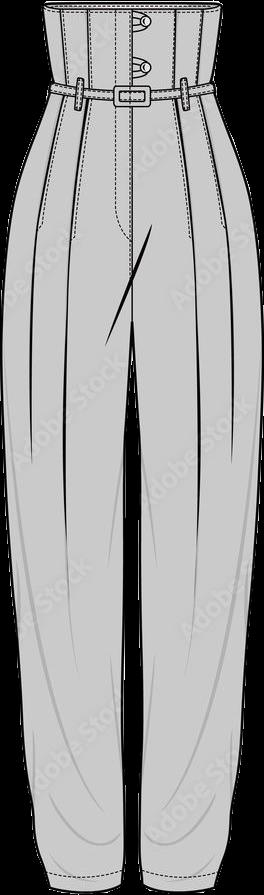Hemline: (140, 875, 217, 894), (49, 877, 124, 894)
Pantleg: (2, 0, 133, 891), (133, 0, 262, 891)
Waistline: (49, 81, 215, 104), (44, 0, 229, 16)
